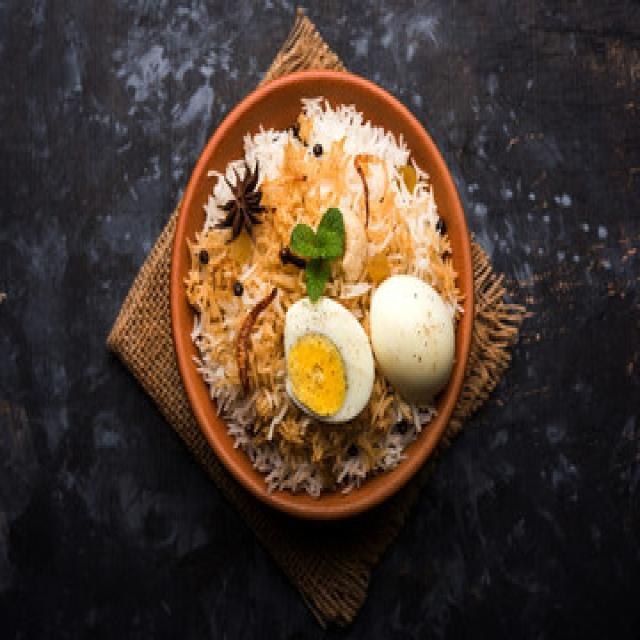BIRIYANI: (183, 99, 459, 496)
EGG: (284, 275, 453, 421)
